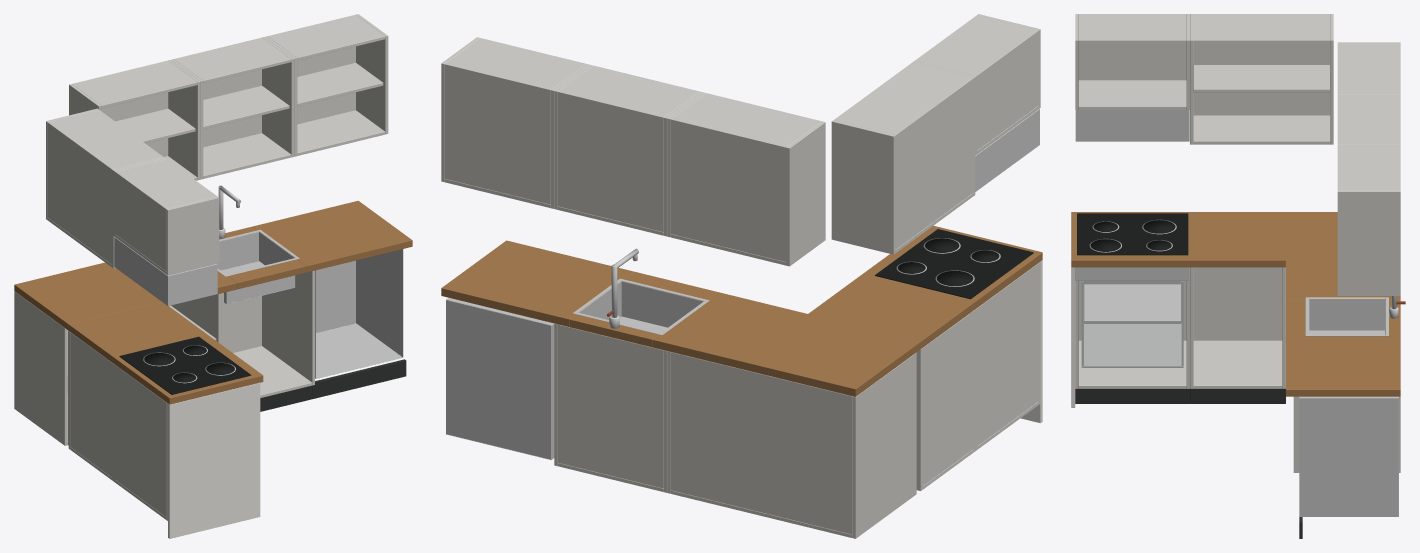
The model's file is l_kitchen_compact_body.glb.
3 renders of one model, left to right at view 1: azimuth 30°, elevation 25°; view 2: azimuth 150°, elevation 25°; view 3: azimuth 270°, elevation 25°, orthographic. The views are drawn at different scales.
Visible parts, largest first — view 1: l_kitchen_compact_body; view 2: l_kitchen_compact_body; view 3: l_kitchen_compact_body.
Boxes of the visible parts, x1,y1,x2,y2 form: l_kitchen_compact_body: [14, 14, 412, 538]; l_kitchen_compact_body: [441, 14, 1042, 538]; l_kitchen_compact_body: [1071, 14, 1405, 538].
Size of the model in its own units: 2.2 by 2 by 1.75.
